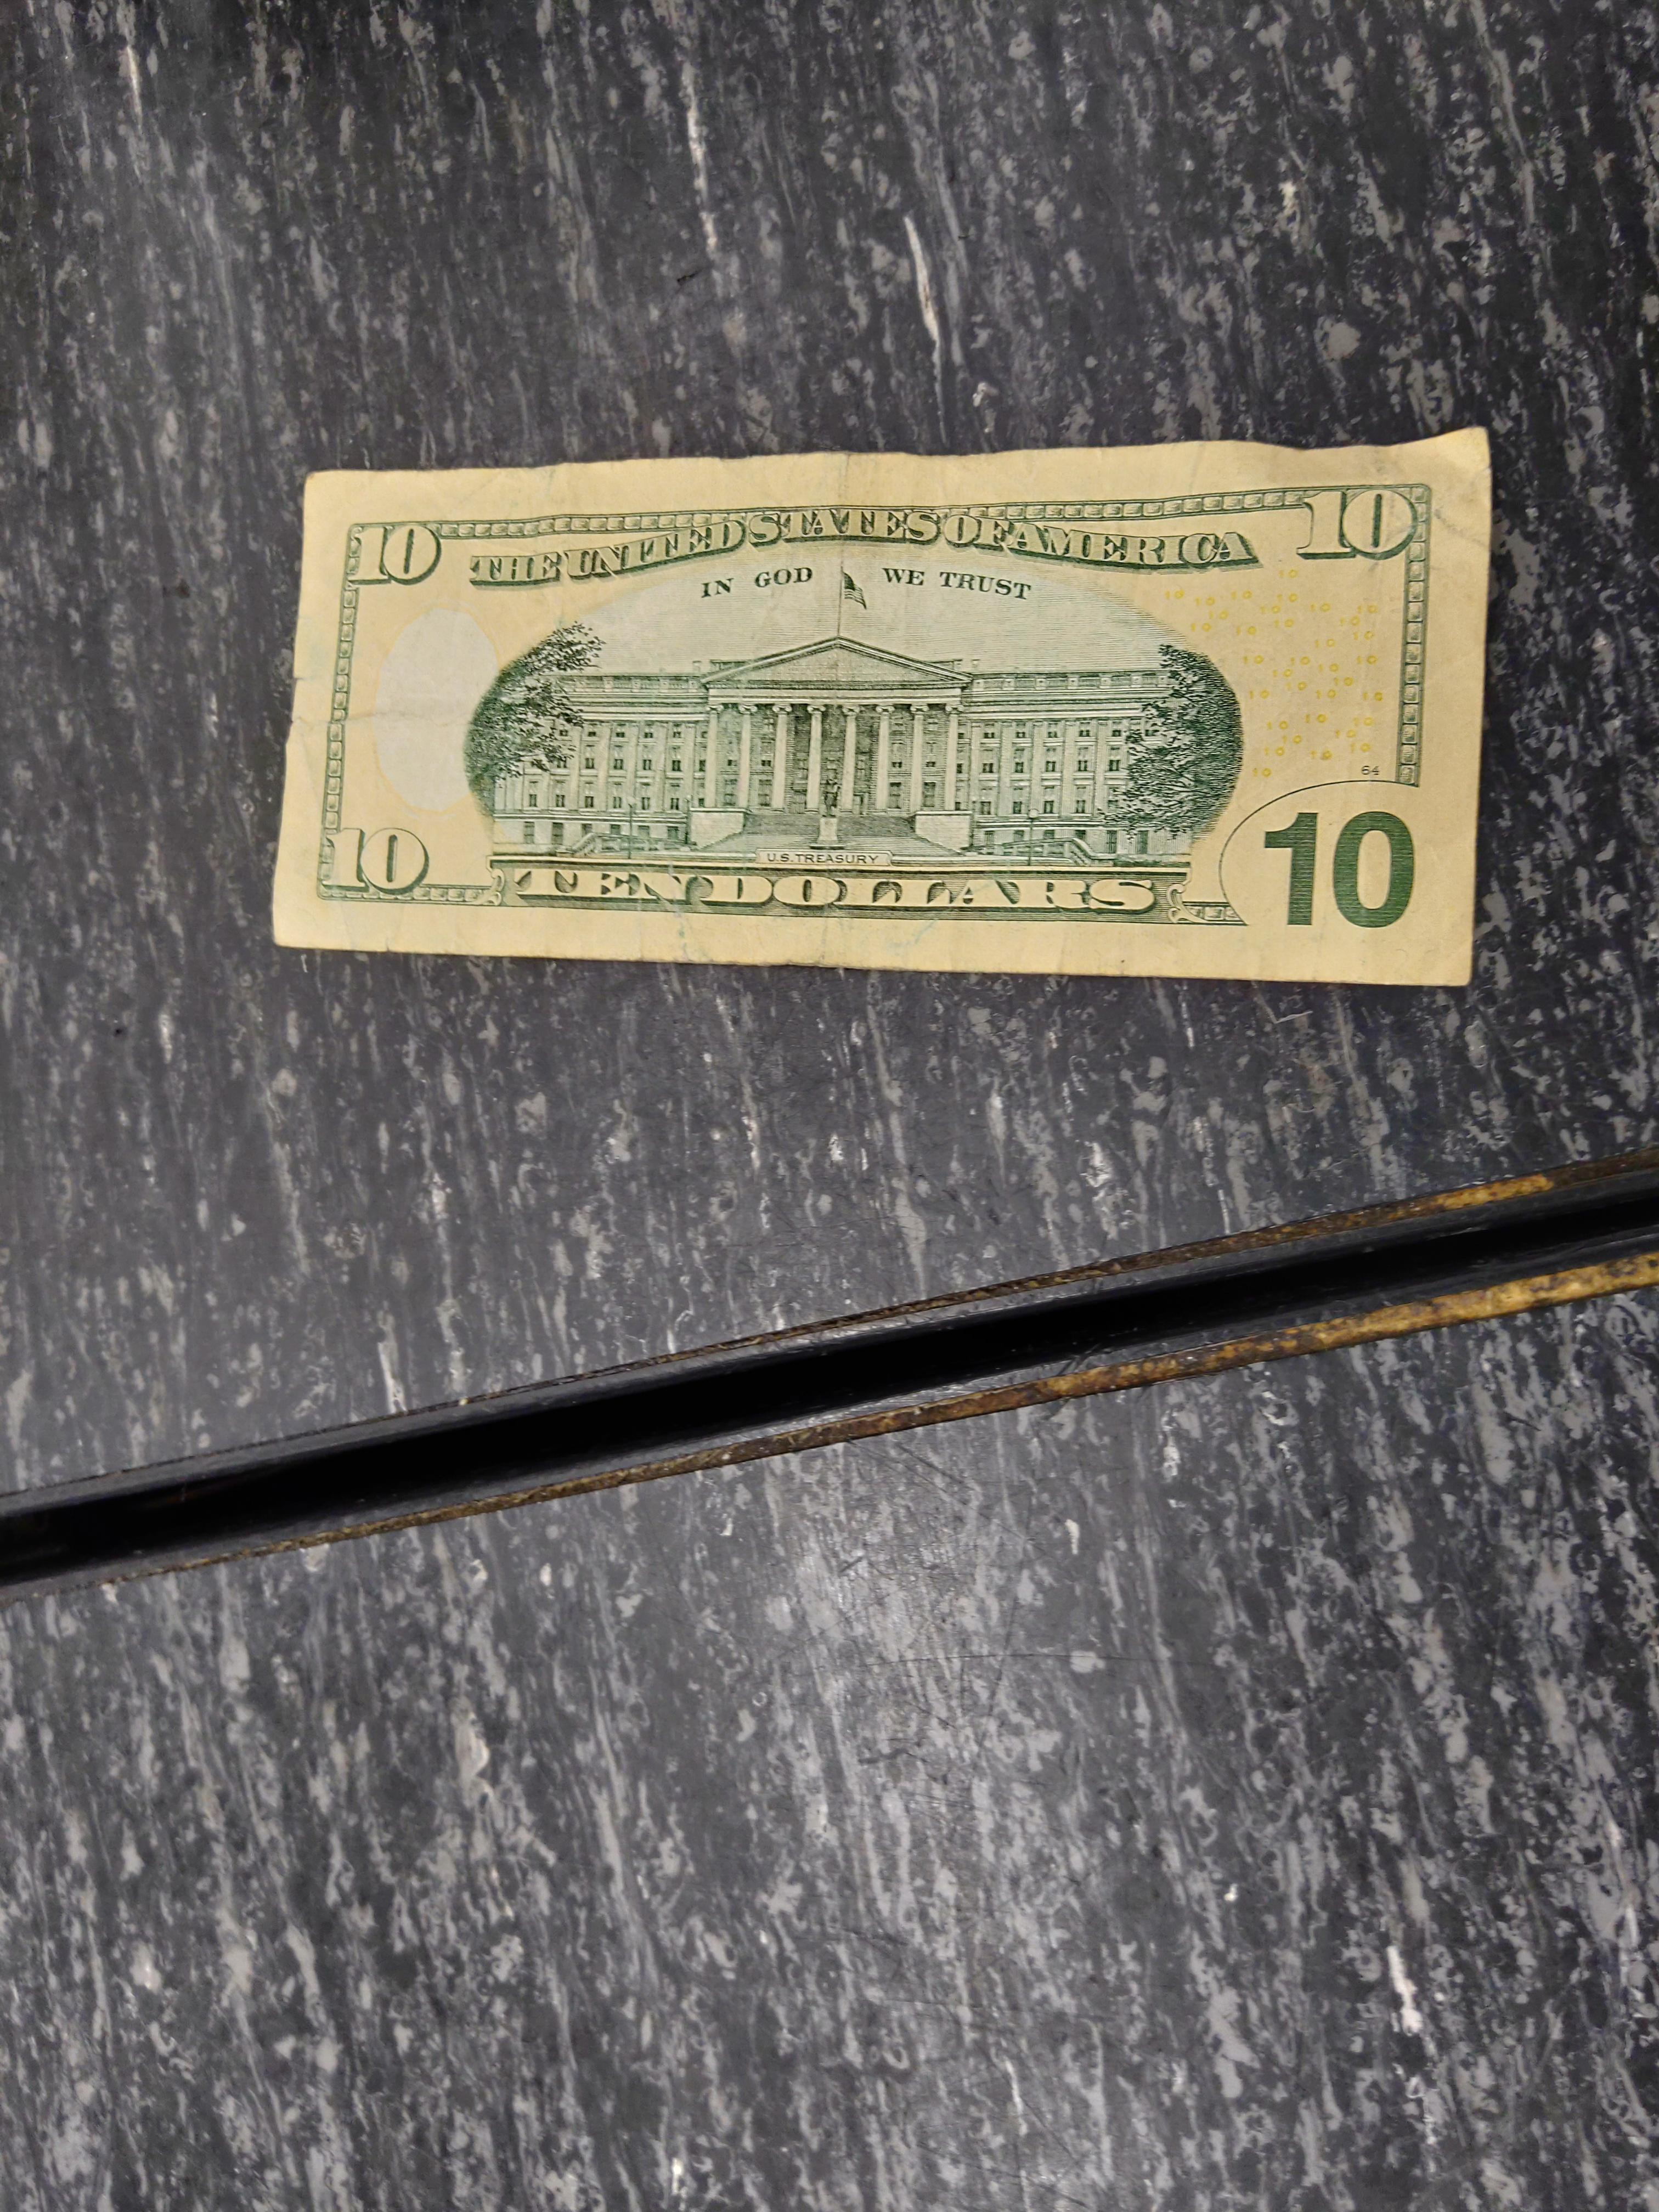TenBill: (265, 420, 1492, 986)
